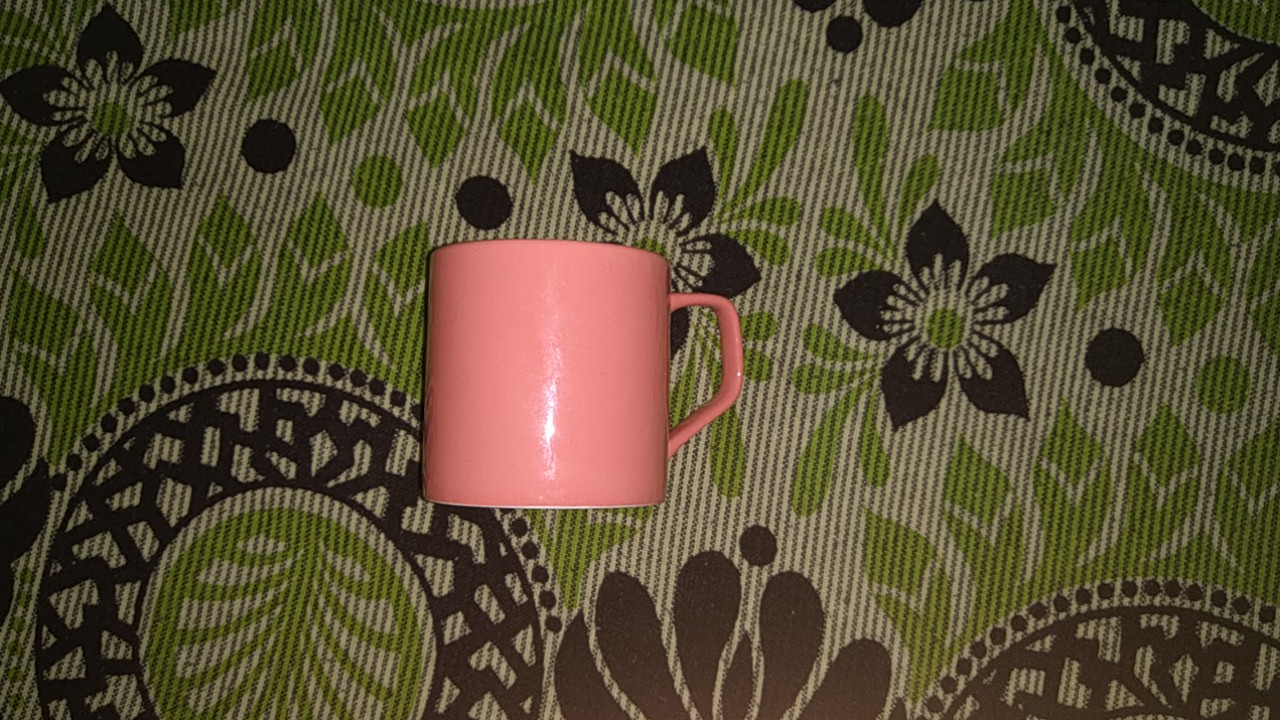cup: (413, 233, 755, 533)
